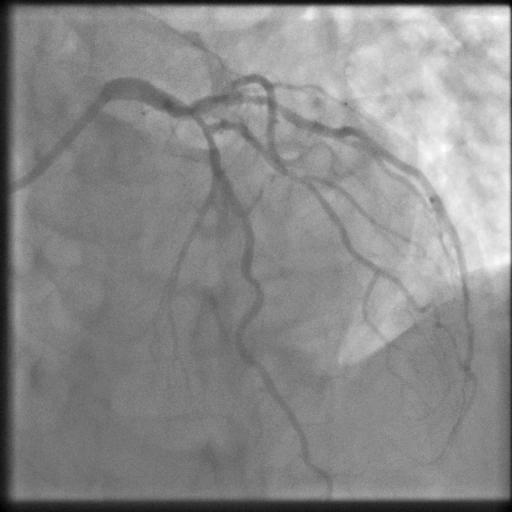Stenosis: (187, 109, 216, 141)
